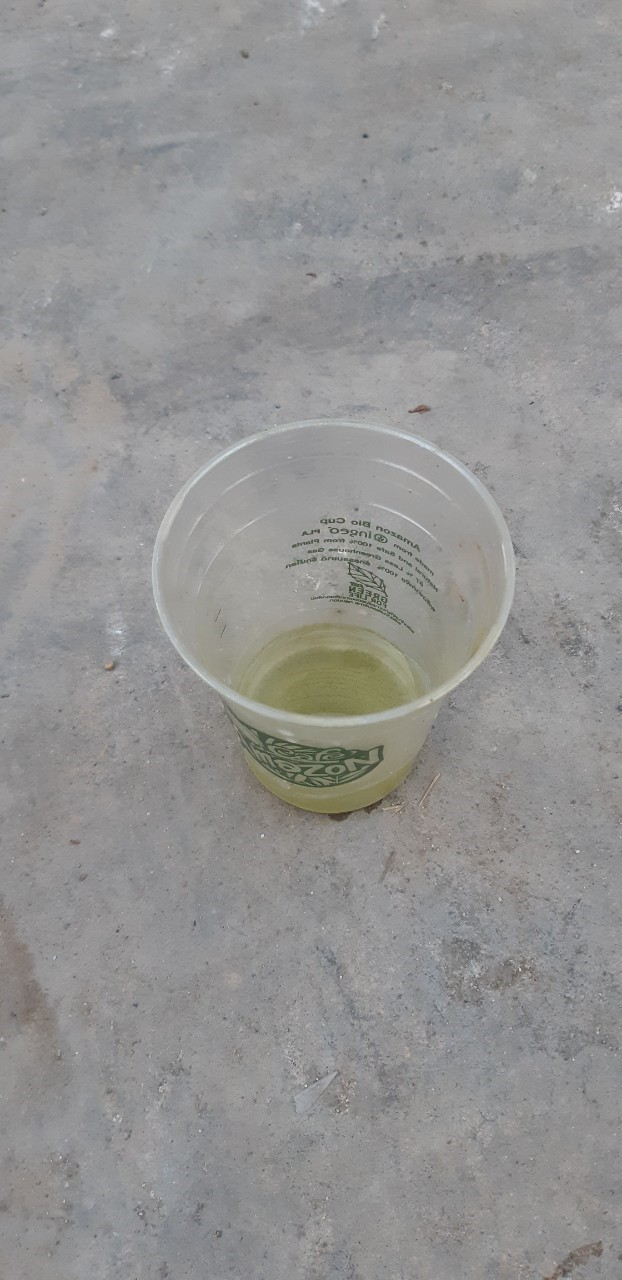PlasticCup: (149, 415, 518, 815)
